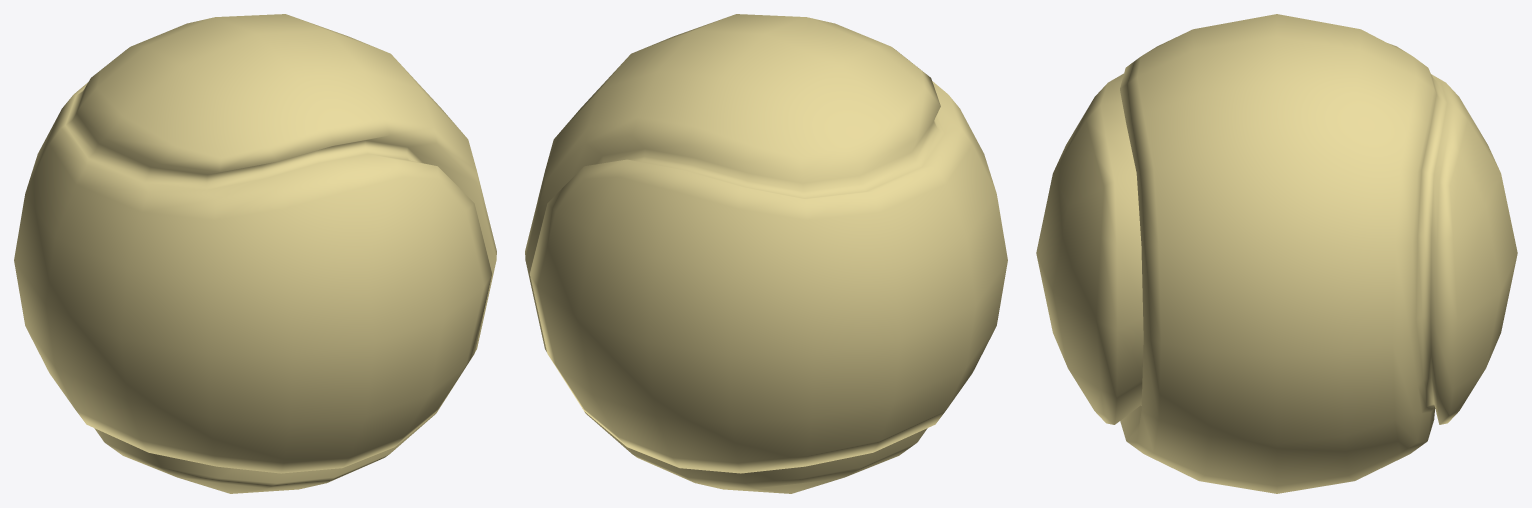
The model's file is Ball high poly.fbx.
3 renders of one model, left to right at view 1: azimuth 30°, elevation 25°; view 2: azimuth 150°, elevation 25°; view 3: azimuth 270°, elevation 25°, orthographic.
Visible parts, largest first — view 1: ball high poly; view 2: ball high poly; view 3: ball high poly.
Part boxes in pixels (x1,y1,x2,y2): ball high poly: (14,14,496,493); ball high poly: (525,14,1007,493); ball high poly: (1036,14,1517,493).
Bounding box in the file's own units: 16.92 × 16.92 × 16.92.
